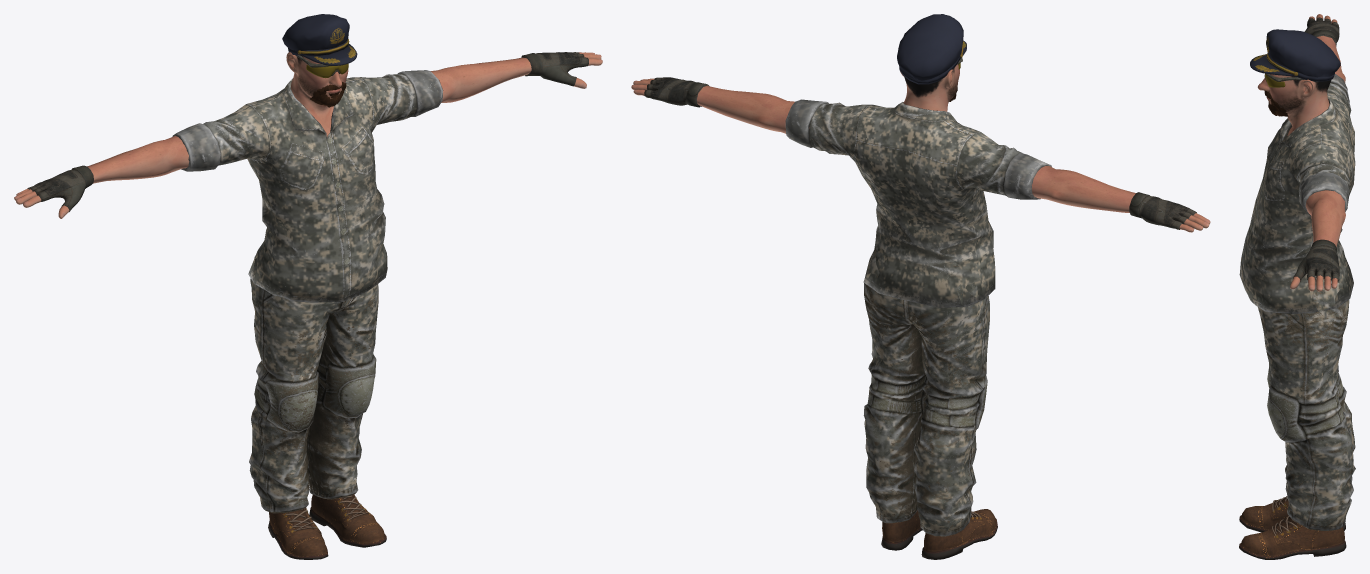
3 views of the same model, side by side, from view 1: azimuth 30°, elevation 25°; view 2: azimuth 150°, elevation 25°; view 3: azimuth 270°, elevation 25° (orthographic). The views are drawn at different scales.
Visible parts, largest first — view 1: Tops, Bottoms, Body, Shoes, Gloves, Hats; view 2: Tops, Bottoms, Body, Hats, Shoes, Gloves; view 3: Bottoms, Tops, Body, Shoes, Hats, Gloves, Eyewear.
Part boxes in pixels (box(x1,y1,x2,y2)): Tops: box(172, 70, 443, 302); Bottoms: box(249, 257, 378, 513); Body: box(14, 52, 602, 218); Shoes: box(268, 494, 386, 559); Gloves: box(27, 52, 588, 211); Hats: box(282, 14, 357, 65); Tops: box(785, 99, 1051, 307); Bottoms: box(863, 246, 989, 536); Body: box(631, 64, 1210, 232); Hats: box(897, 14, 966, 84); Shoes: box(881, 509, 997, 559); Gloves: box(644, 77, 1196, 229); Bottoms: box(1258, 277, 1355, 530); Tops: box(1239, 74, 1355, 313); Body: box(1257, 14, 1345, 291); Shoes: box(1239, 496, 1346, 559); Hats: box(1250, 29, 1340, 81); Gloves: box(1293, 17, 1339, 281); Eyewear: box(1264, 73, 1318, 87).
Bounding box in the file's own units: 213 × 182 × 38.01.
Materials: 9 (9 with a texture image).
